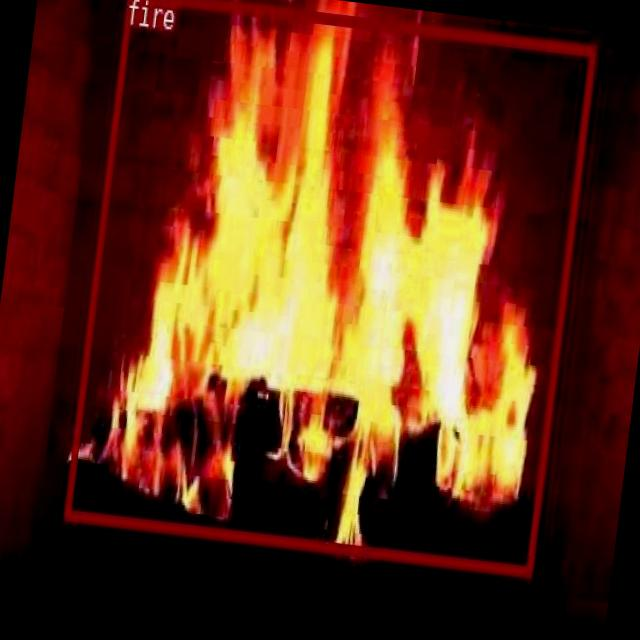fire: (62, 0, 595, 573)
